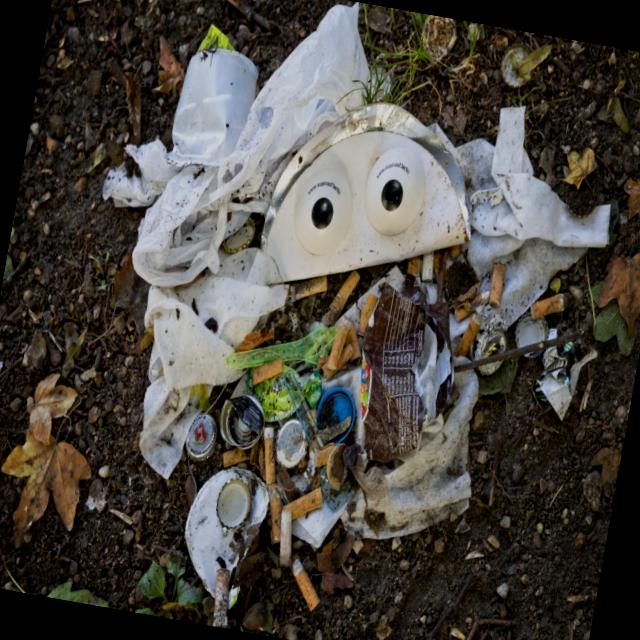garbage: (21, 0, 633, 640)
